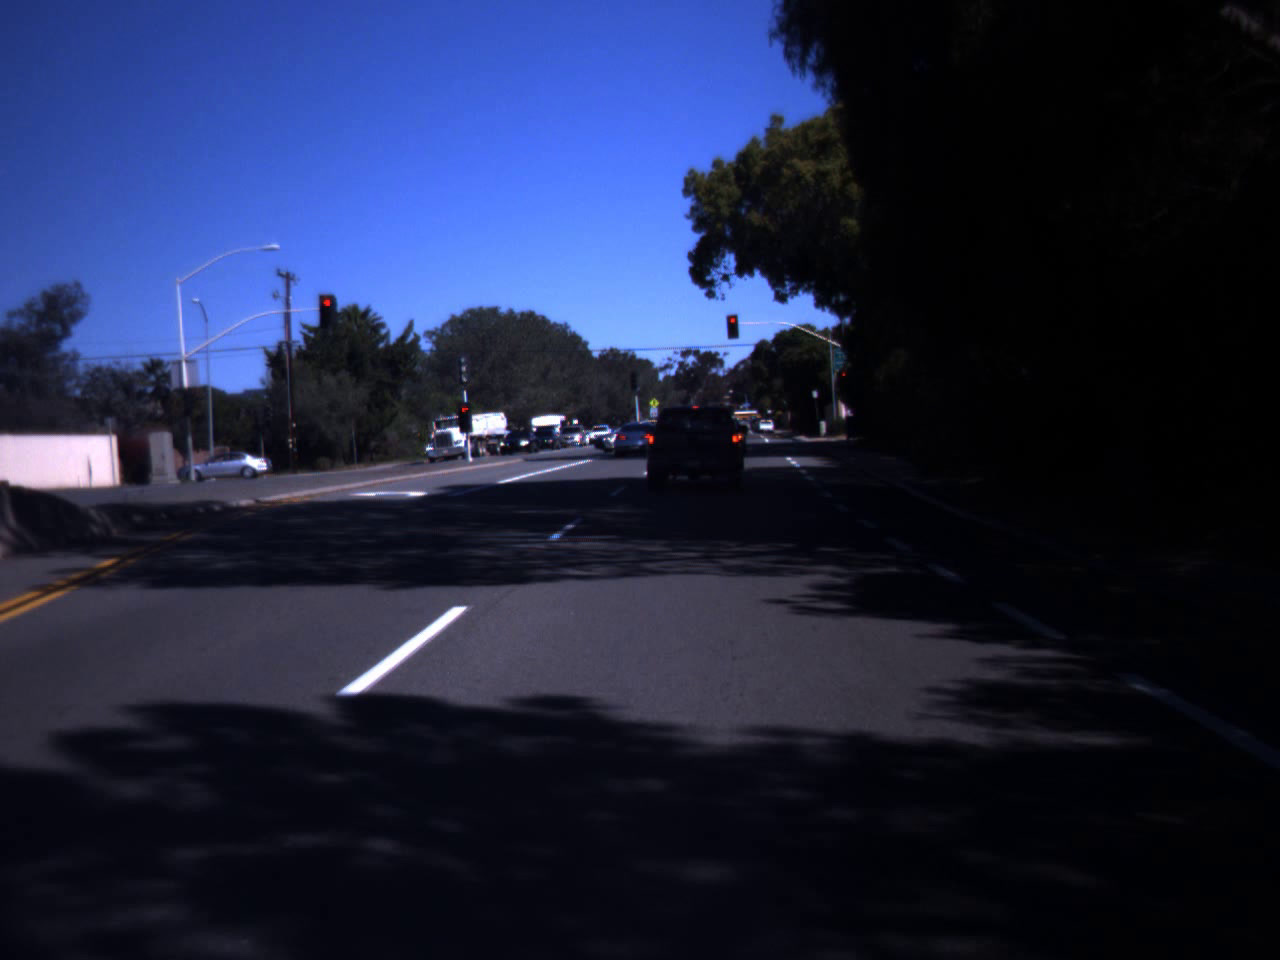stop: (318, 297, 336, 324), (456, 406, 474, 424), (726, 316, 738, 334), (837, 370, 849, 388)
